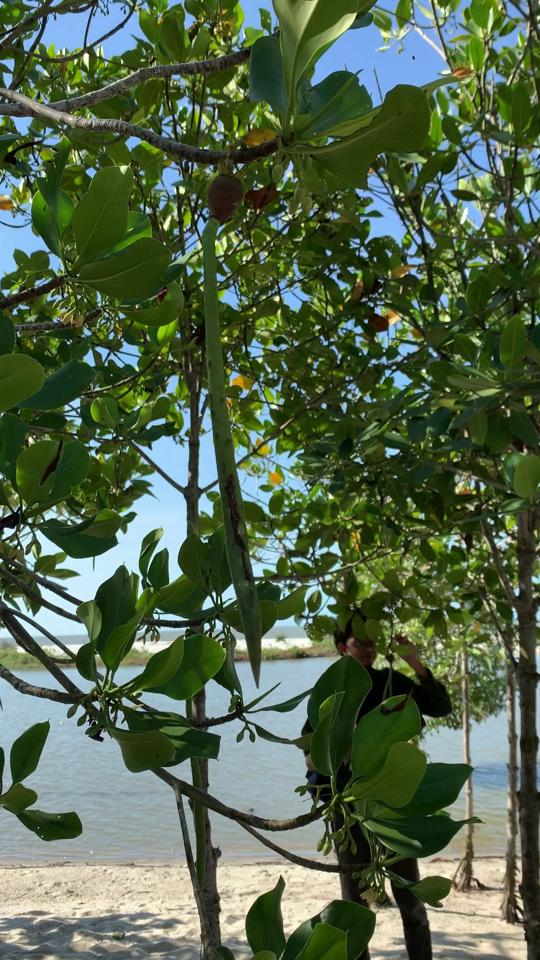setengah matang: (190, 160, 286, 690)
